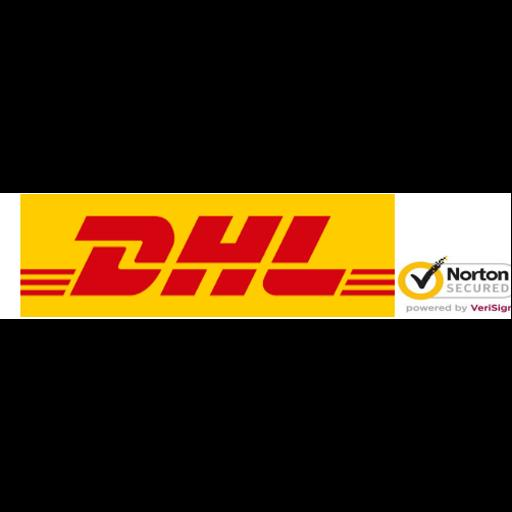DHL: (0, 193, 511, 319)
